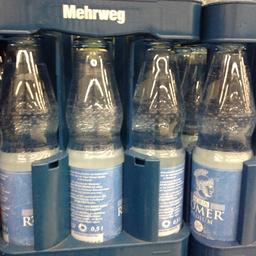water: (1, 36, 62, 250), (192, 41, 254, 242), (66, 36, 124, 242), (132, 38, 186, 236)
